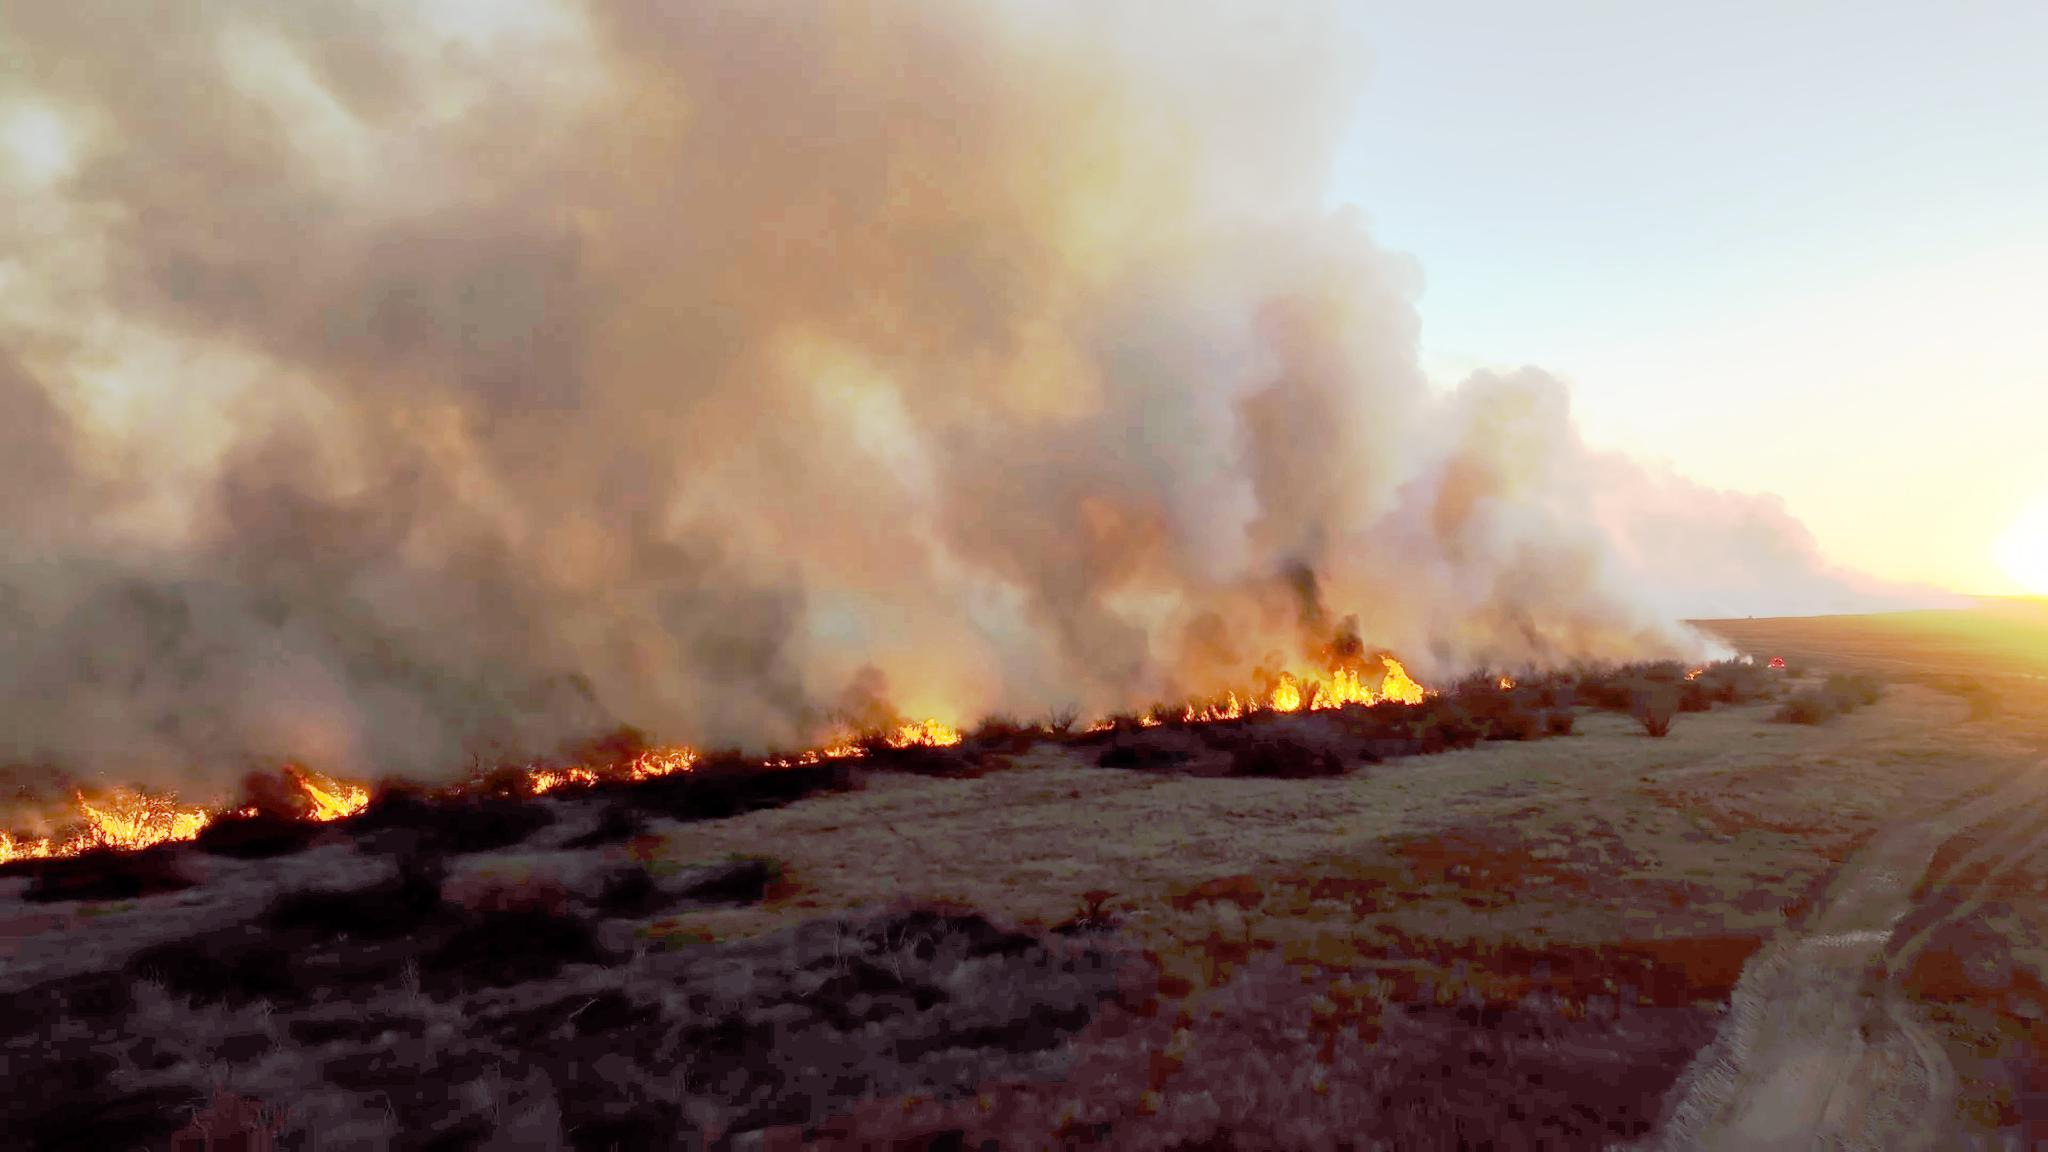fire: (0, 771, 228, 896), (1262, 644, 1404, 730)
smoke: (135, 0, 1221, 464), (982, 163, 1447, 536), (263, 366, 744, 681)
